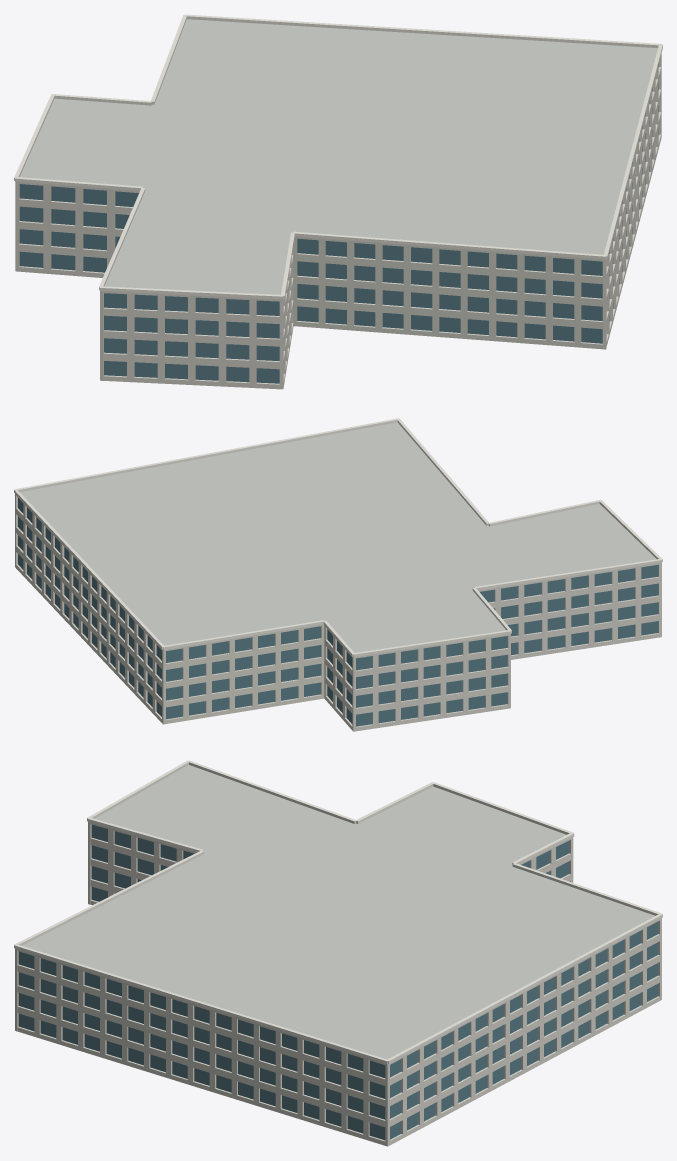
File: sb_1556523867.far.glb
The picture shows the model from 3 angles, top to bottom: view 1: azimuth 30°, elevation 25°; view 2: azimuth 150°, elevation 25°; view 3: azimuth 270°, elevation 25°; orthographic projection. The views are drawn at different scales.
Visible parts, largest first — view 1: roof, wall, glass, trim; view 2: roof, wall, glass, trim; view 3: roof, wall, glass, trim.
Part boxes in pixels (box(x1,y1,x2,y2)): roof: box(20, 19, 657, 294); wall: box(15, 53, 661, 389); glass: box(19, 63, 658, 383); trim: box(14, 14, 662, 299); roof: box(20, 422, 656, 652); wall: box(15, 494, 661, 731); glass: box(18, 498, 658, 726); trim: box(14, 418, 662, 656); roof: box(22, 765, 654, 1059); wall: box(15, 822, 661, 1146); glass: box(18, 824, 658, 1140); trim: box(14, 760, 662, 1063).
Bounding box in the file's own units: 98.19 × 13.04 × 89.46.
